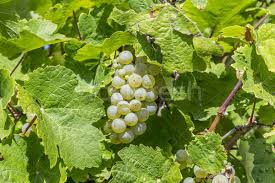grapes: (97, 43, 160, 164)
